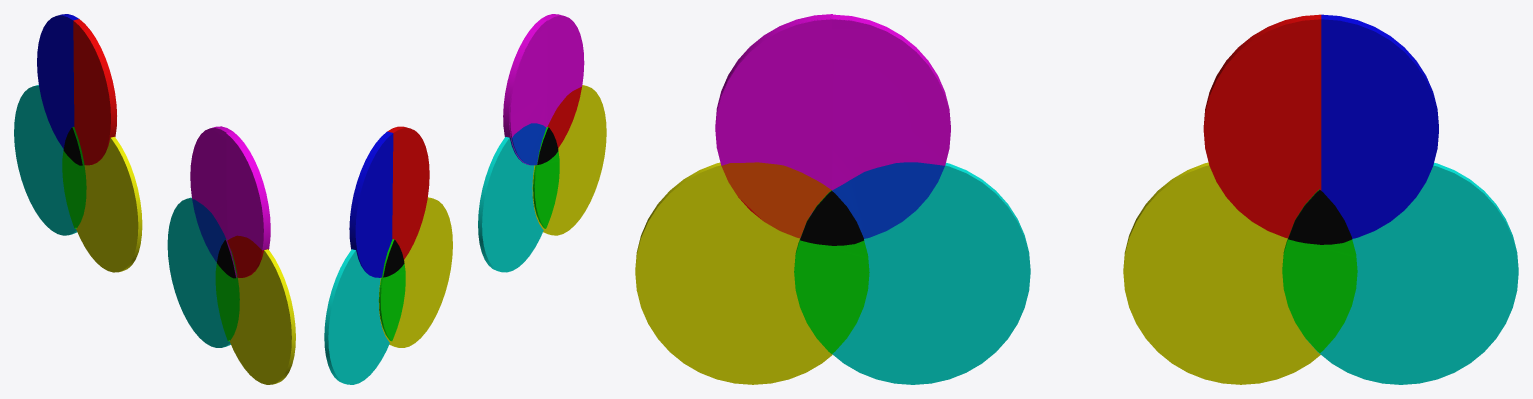
Rendered from HYPOTHESIS_9.fbx.
3 renders of one model, left to right at view 1: azimuth 30°, elevation 25°; view 2: azimuth 150°, elevation 25°; view 3: azimuth 270°, elevation 25°, orthographic. The views are drawn at different scales.
Parts seen in each view (by area): view 1: polySurface1 (×2), YELLOW4, YELLOW1, YELLOW2, YELLOW3, polySurface4 (×2); view 2: polySurface1 (×2), YELLOW2 (×2), YELLOW3, YELLOW1, YELLOW4, polySurface4 (×2); view 3: polySurface1 (×2), YELLOW2 (×2), YELLOW1 (×2), polySurface3 (×2).
Part boxes in pixels (x1=…): polySurface1 (×2): x1=14, y1=85, x2=295, y2=384; YELLOW4: x1=226, y1=132, x2=269, y2=277; YELLOW1: x1=73, y1=19, x2=116, y2=165; YELLOW2: x1=37, y1=14, x2=78, y2=148; YELLOW3: x1=190, y1=128, x2=228, y2=262; polySurface4 (×2): x1=62, y1=127, x2=239, y2=341; polySurface1 (×2): x1=324, y1=85, x2=606, y2=384; YELLOW2 (×2): x1=349, y1=19, x2=546, y2=277; YELLOW3: x1=509, y1=19, x2=547, y2=165; YELLOW1: x1=387, y1=126, x2=429, y2=259; YELLOW4: x1=542, y1=14, x2=584, y2=147; polySurface4 (×2): x1=379, y1=127, x2=559, y2=341; polySurface1 (×2): x1=635, y1=162, x2=1518, y2=384; YELLOW2 (×2): x1=832, y1=14, x2=1438, y2=238; YELLOW1 (×2): x1=715, y1=14, x2=1321, y2=238; polySurface3 (×2): x1=794, y1=189, x2=1357, y2=353.
Bounding box in the file's own units: 0.4871 × 10.09 × 22.16.
